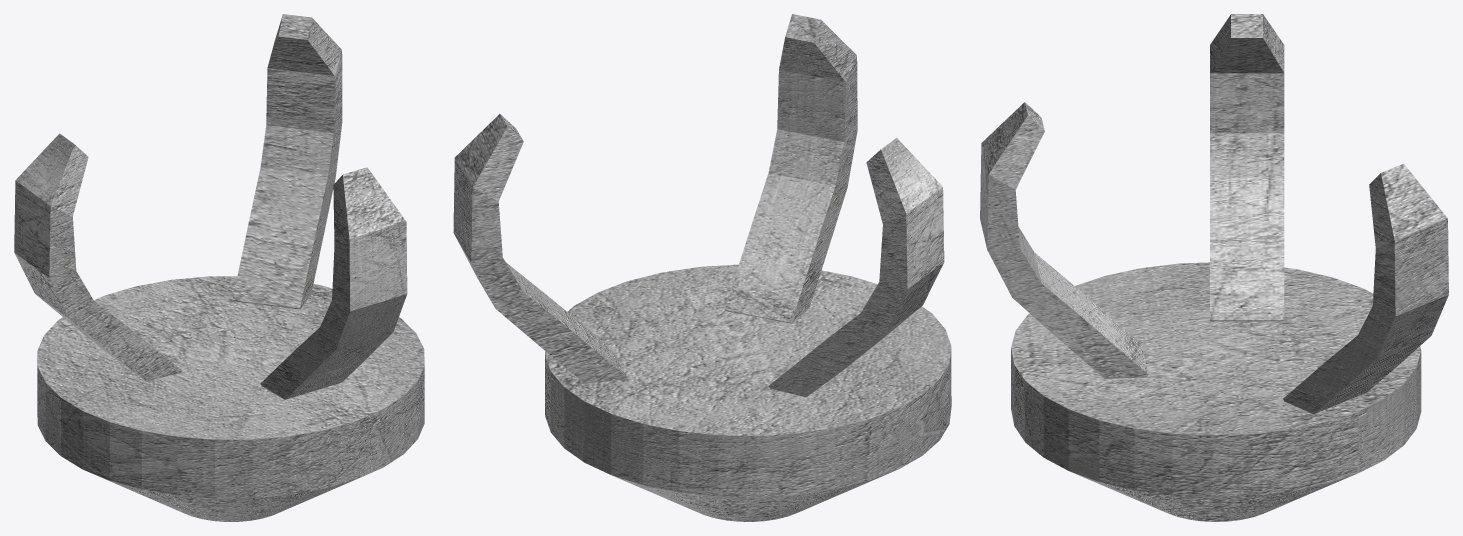
Rendered from hook.fbx.
3 renders of one model, left to right at view 1: azimuth 30°, elevation 25°; view 2: azimuth 150°, elevation 25°; view 3: azimuth 270°, elevation 25°, orthographic. The views are drawn at different scales.
Parts seen in each view (by area): view 1: Cube.004; view 2: Cube.004; view 3: Cube.004.
Part boxes in pixels (x1,y1,x2,y2): Cube.004: (14, 14, 424, 521); Cube.004: (453, 14, 951, 521); Cube.004: (980, 14, 1448, 521).
Bounding box in the file's own units: 130 × 124 × 131.
